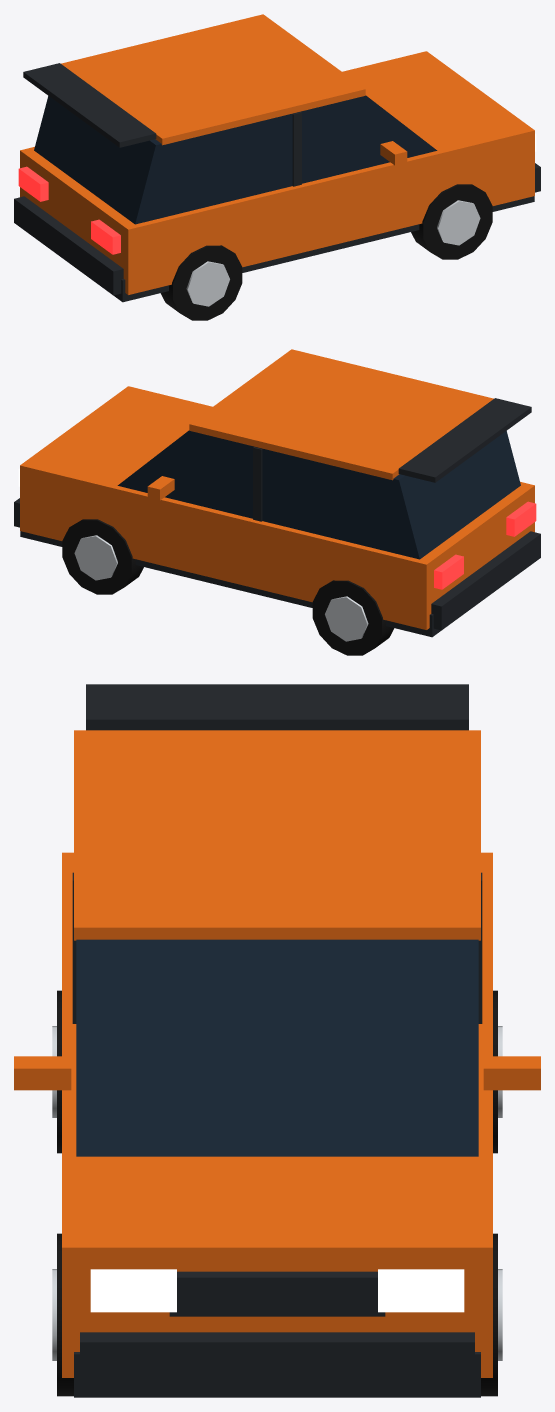
File: hatchback.glb
3 views of the same model, one above another, from view 1: azimuth 30°, elevation 25°; view 2: azimuth 150°, elevation 25°; view 3: azimuth 270°, elevation 25° (orthographic). The views are drawn at different scales.
Visible parts, largest first — view 1: Body, Cabin, Roof, Wheel (×2), Spoiler, Bumper, Skirt, Taillight (×2), Pillar, Hatchback; view 2: Body, Cabin, Roof, Wheel (×2), Spoiler, Bumper, Skirt, Taillight (×2), Pillar, Hatchback; view 3: Cabin, Roof, Body, Bumper, Spoiler, Grille, Headlight (×2), Wheel (×4), Hatchback, Skirt, Pillar.
Boxes of the visible parts, left/top/right/bottom form: Body: left=20, top=51, right=534, bottom=294; Cabin: left=34, top=95, right=437, bottom=224; Roof: left=61, top=14, right=365, bottom=145; Wheel (×2): left=160, top=184, right=492, bottom=320; Spoiler: left=23, top=63, right=156, bottom=147; Bumper: left=14, top=196, right=123, bottom=295; Skirt: left=113, top=196, right=534, bottom=302; Taillight (×2): left=18, top=166, right=120, bottom=254; Pillar: left=292, top=112, right=301, bottom=186; Hatchback: left=380, top=141, right=407, bottom=165; Body: left=20, top=386, right=534, bottom=629; Cabin: left=117, top=430, right=520, bottom=559; Roof: left=189, top=349, right=493, bottom=480; Wheel (×2): left=62, top=519, right=394, bottom=655; Spoiler: left=398, top=398, right=531, bottom=482; Bumper: left=431, top=531, right=540, bottom=630; Skirt: left=20, top=531, right=441, bottom=637; Taillight (×2): left=434, top=501, right=536, bottom=589; Pillar: left=253, top=447, right=262, bottom=521; Hatchback: left=147, top=476, right=174, bottom=500; Cabin: left=76, top=939, right=478, bottom=1156; Roof: left=74, top=730, right=480, bottom=940; Body: left=62, top=852, right=492, bottom=1377; Bumper: left=80, top=1332, right=474, bottom=1390; Spoiler: left=86, top=684, right=468, bottom=730; Grille: left=169, top=1271, right=385, bottom=1316; Headlight (×2): left=90, top=1269, right=464, bottom=1312; Wheel (×4): left=52, top=990, right=502, bottom=1396; Hatchback: left=14, top=1056, right=540, bottom=1090; Skirt: left=74, top=1352, right=480, bottom=1397; Pillar: left=72, top=872, right=482, bottom=1023.
Bounding box in the file's own units: 4.1 × 1.77 × 2.2.
